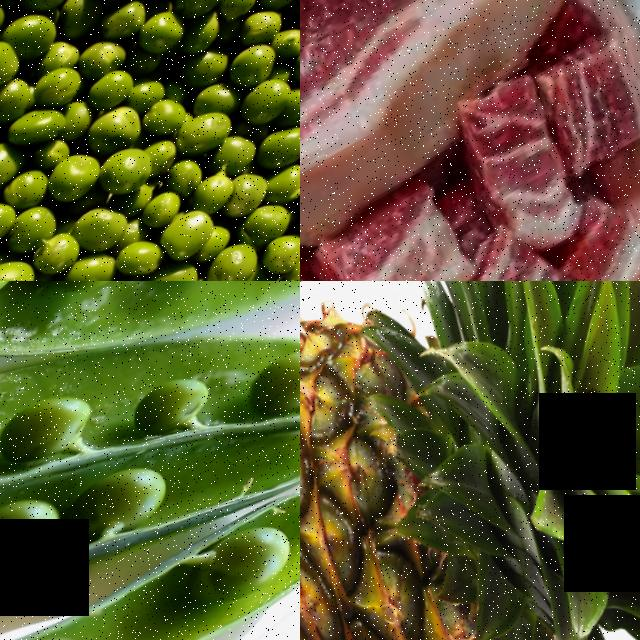peas: (0, 0, 300, 281), (0, 422, 209, 622)
pineapple: (300, 281, 640, 640)
pork belly: (300, 0, 640, 281), (433, 60, 621, 276), (300, 176, 528, 281), (521, 5, 640, 188), (430, 205, 640, 281), (541, 174, 640, 281)
